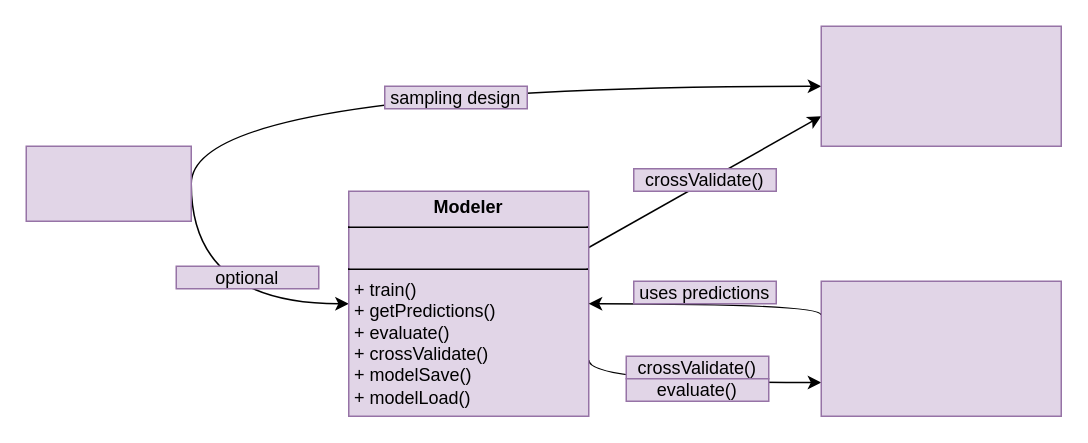
This 1088x443 diagram has some shape labels left out. Each missing label, with the centre of its shape:
CostFunction + getCost() + getReducedCost(): [940,348]
Estimator: [108,183]
Sampler + getSample(): [940,85]
